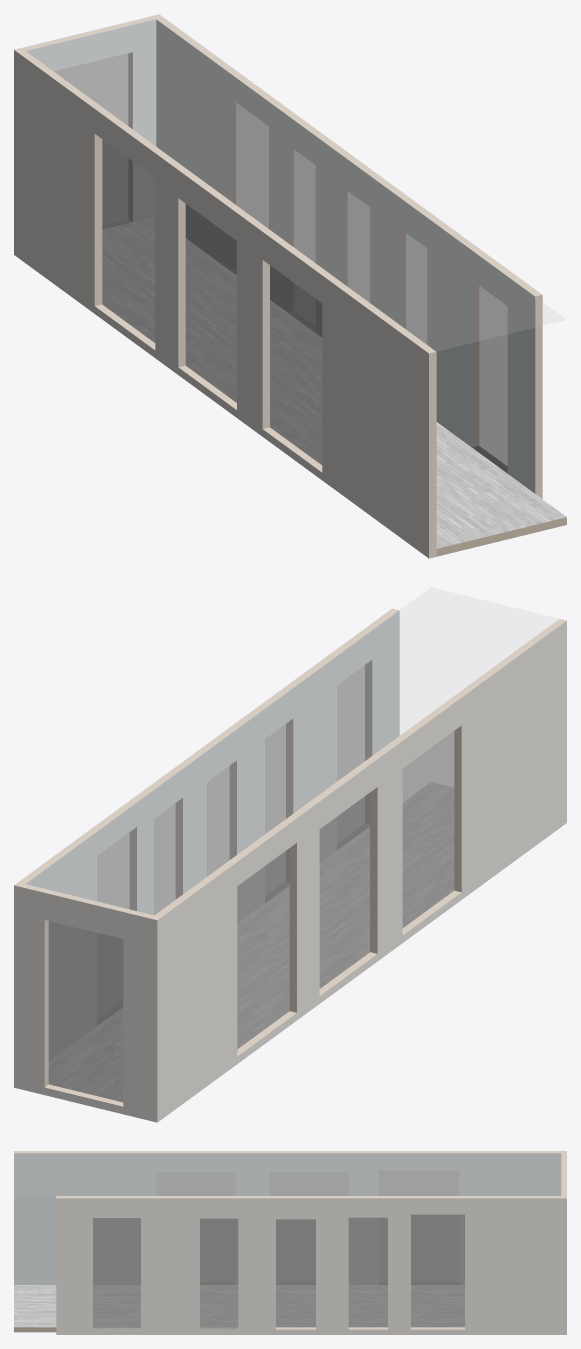
3 views of the same model, one above another, from view 1: azimuth 30°, elevation 25°; view 2: azimuth 150°, elevation 25°; view 3: azimuth 270°, elevation 25° (orthographic). The views are drawn at different scales.
Visible parts, largest first — view 1: wall_0 (×3), ceiling_Other_0, wall_2 (×3), floor_Other_0 (×2), door_4 (×2), door_6 (×2), door_5 (×2), door_0 (×2), door_3 (×2), wall_1 (×2), door_7 (×2), door_8 (×2) (+2 smaller); view 2: wall_0 (×3), ceiling_Other_0, wall_2 (×3), door_7 (×2), floor_Other_0, wall_1 (×3), door_4 (×2), door_6 (×2), door_5 (×2), door_0 (×2), door_2 (×2), door_8 (×2) (+2 smaller); view 3: wall_2 (×3), wall_0 (×2), ceiling_Other_0, door_3 (×2), floor_Other_0 (×2), door_0 (×2), door_2 (×2), door_8 (×2), door_1 (×2), door_4 (×2), door_6 (×2), door_5 (×2) (+1 smaller).
Part boxes in pixels (x1,y1,x2,y2): wall_0 (×3): [14, 49, 436, 558]; ceiling_Other_0: [27, 20, 565, 350]; wall_2 (×3): [156, 14, 542, 498]; floor_Other_0 (×2): [102, 217, 566, 556]; door_4 (×2): [102, 140, 154, 342]; door_6 (×2): [270, 266, 321, 464]; door_5 (×2): [186, 204, 236, 402]; door_0 (×2): [472, 281, 507, 472]; door_3 (×2): [229, 98, 268, 228]; wall_1 (×2): [15, 14, 158, 221]; door_7 (×2): [54, 52, 132, 128]; door_8 (×2): [286, 144, 315, 262]; wall_0 (×3): [154, 619, 566, 1122]; ceiling_Other_0: [27, 588, 557, 914]; wall_2 (×3): [14, 608, 399, 1060]; door_7 (×2): [49, 921, 122, 1101]; floor_Other_0: [49, 782, 453, 1101]; wall_1 (×3): [14, 884, 157, 1122]; door_4 (×2): [237, 848, 289, 1048]; door_6 (×2): [403, 731, 453, 927]; door_5 (×2): [320, 793, 369, 988]; door_0 (×2): [337, 660, 371, 780]; door_2 (×2): [207, 761, 236, 876]; door_8 (×2): [154, 798, 182, 914]; wall_2 (×3): [56, 1196, 566, 1334]; wall_0 (×2): [14, 1151, 566, 1284]; ceiling_Other_0: [14, 1154, 560, 1195]; door_3 (×2): [411, 1215, 464, 1326]; floor_Other_0 (×2): [14, 1285, 464, 1332]; door_0 (×2): [93, 1218, 140, 1326]; door_2 (×2): [276, 1219, 315, 1326]; door_8 (×2): [349, 1218, 387, 1326]; door_1 (×2): [200, 1219, 237, 1326]; door_4 (×2): [379, 1170, 458, 1195]; door_6 (×2): [156, 1172, 235, 1195]; door_5 (×2): [270, 1172, 347, 1195].
Bounding box in the file's own units: 1.95 × 2.63 × 9.65.
7 materials, 1 textured.
